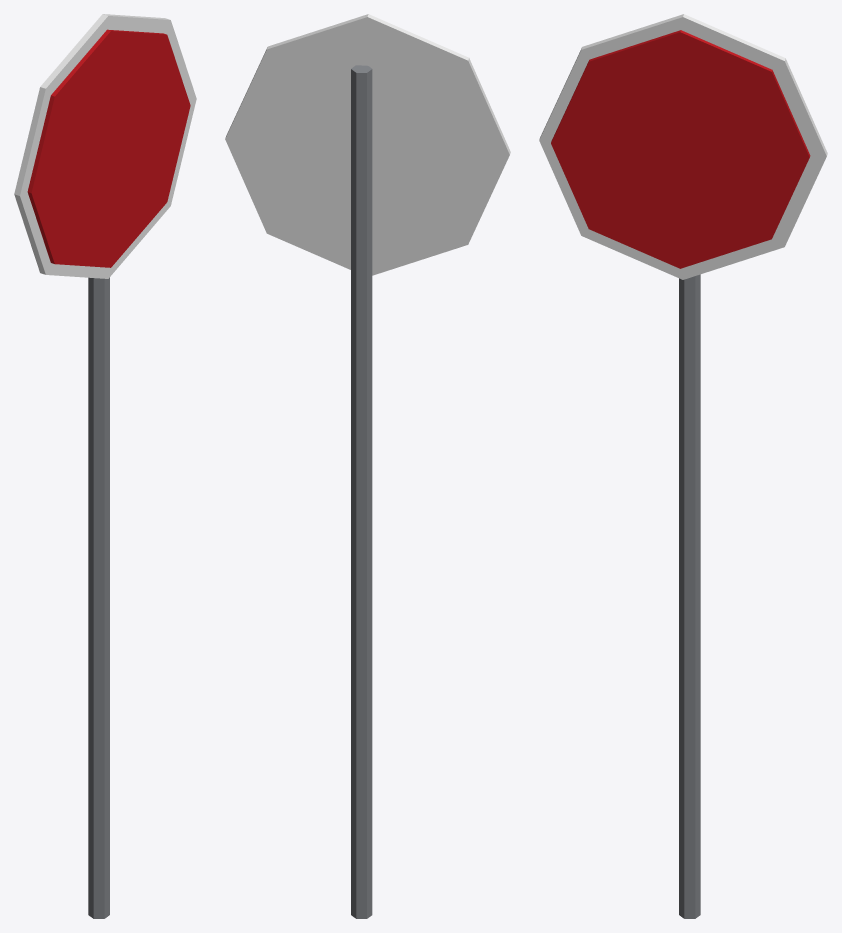
The model's file is stop_sign.glb.
3 views of the same model, side by side, from view 1: azimuth 30°, elevation 25°; view 2: azimuth 150°, elevation 25°; view 3: azimuth 330°, elevation 25° (orthographic).
Parts seen in each view (by area): view 1: stop_sign; view 2: stop_sign; view 3: stop_sign.
Part boxes in pixels (box(x1,y1,x2,y2)): stop_sign: box(14, 14, 196, 918); stop_sign: box(225, 14, 510, 918); stop_sign: box(539, 14, 827, 918).
Size of the model in its own units: 0.7468 by 2.75 by 0.3246.
